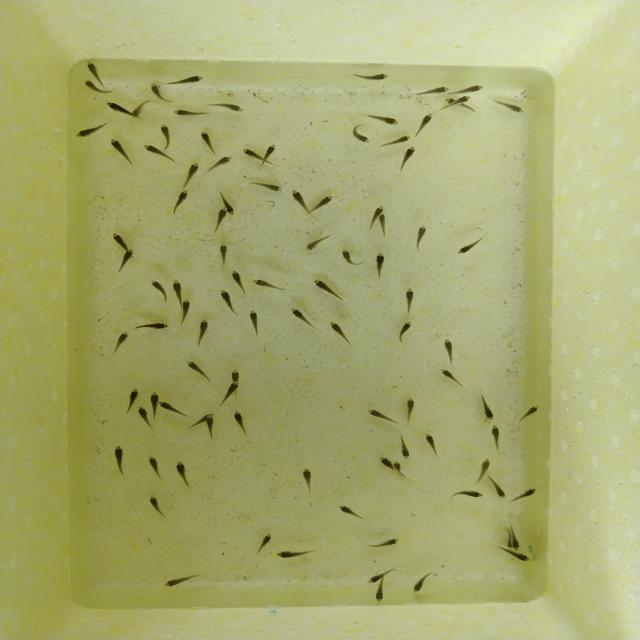fingerling: (312, 278, 350, 303), (109, 136, 136, 170), (475, 388, 499, 422), (140, 144, 176, 166), (454, 233, 488, 256), (326, 320, 354, 347), (410, 568, 438, 594), (302, 232, 334, 254), (163, 571, 202, 589), (290, 306, 318, 331), (112, 444, 132, 479), (184, 358, 212, 382), (290, 188, 312, 218), (147, 494, 171, 521), (363, 534, 403, 550), (74, 122, 111, 139), (180, 161, 203, 188), (440, 368, 467, 391), (514, 404, 542, 426), (367, 407, 401, 425), (204, 153, 233, 174), (247, 178, 285, 194), (251, 278, 289, 294), (197, 130, 220, 156), (414, 111, 435, 139), (230, 410, 251, 438), (492, 98, 526, 115), (146, 280, 171, 303), (398, 146, 420, 172), (158, 399, 188, 418), (171, 189, 192, 216), (173, 460, 193, 488), (350, 69, 390, 83), (377, 132, 414, 147), (299, 466, 318, 495), (484, 476, 506, 501), (111, 331, 132, 357), (364, 566, 398, 582), (171, 73, 205, 89), (336, 503, 366, 521), (487, 424, 506, 452), (341, 247, 365, 269), (400, 286, 417, 317), (396, 432, 414, 461), (254, 532, 274, 558), (209, 100, 246, 114), (247, 308, 264, 338), (511, 487, 541, 504), (450, 487, 484, 502), (219, 380, 240, 404), (210, 206, 228, 234), (146, 83, 170, 104), (275, 548, 317, 560), (311, 194, 336, 214), (111, 232, 137, 251), (368, 113, 403, 127), (412, 223, 430, 250), (396, 320, 416, 344), (145, 455, 165, 479), (349, 124, 373, 144), (169, 108, 212, 119), (240, 147, 262, 168), (134, 406, 153, 430), (413, 85, 451, 97), (230, 270, 248, 295), (124, 387, 140, 415), (105, 101, 131, 118), (132, 97, 152, 119), (134, 320, 170, 332), (500, 550, 533, 563), (403, 397, 418, 425), (448, 85, 486, 96), (221, 291, 237, 317), (85, 58, 103, 80), (196, 316, 210, 344), (374, 251, 387, 281), (179, 299, 193, 326), (118, 251, 134, 274), (423, 432, 438, 456), (159, 122, 175, 144), (475, 457, 494, 475), (441, 338, 455, 362), (457, 102, 481, 116), (372, 582, 388, 603), (217, 242, 230, 267), (81, 80, 98, 98), (172, 279, 186, 300), (204, 416, 216, 440), (148, 392, 161, 414), (262, 146, 277, 165), (377, 214, 389, 237), (377, 454, 393, 470), (511, 526, 520, 551), (226, 369, 243, 380), (393, 459, 403, 476), (455, 94, 472, 104), (372, 204, 385, 215), (226, 206, 236, 216)
